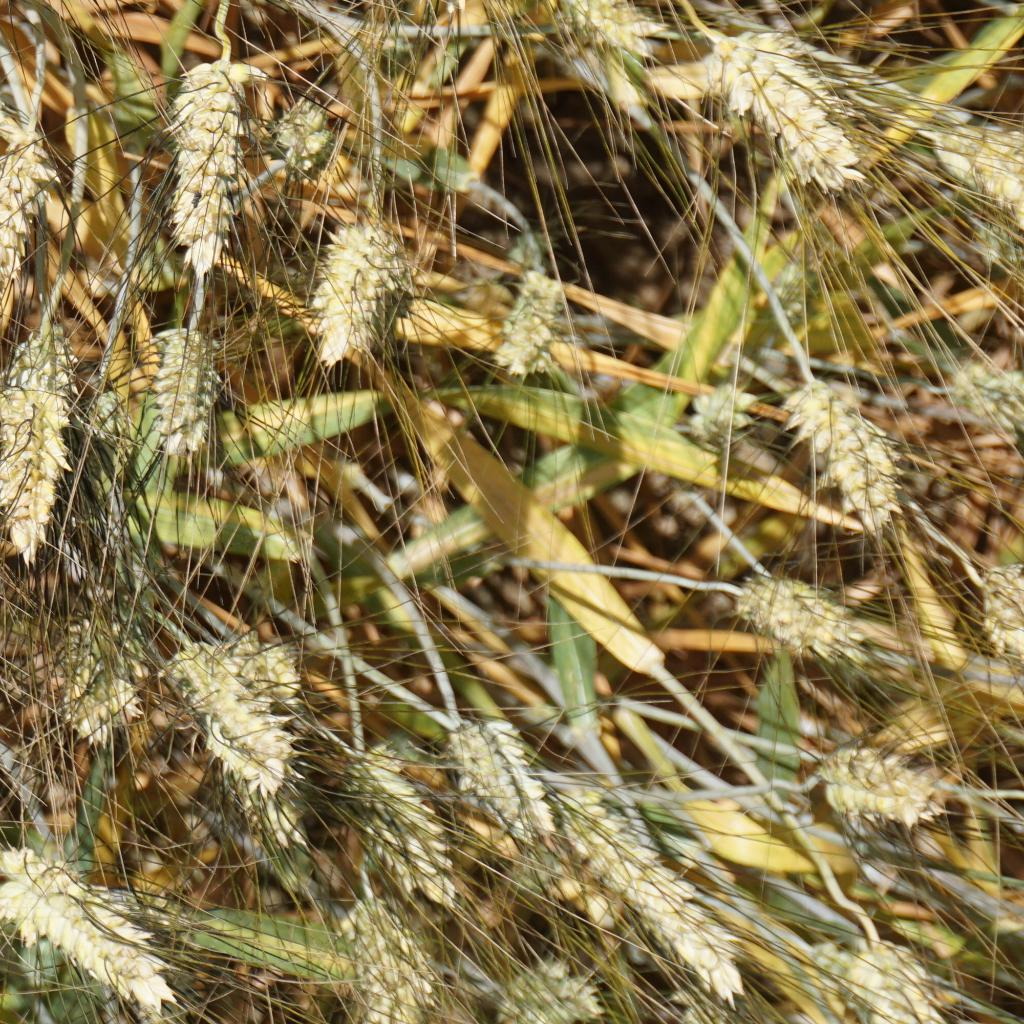0-0: (553, 798, 742, 992), (0, 839, 184, 1016), (145, 51, 268, 290), (696, 30, 868, 197), (314, 201, 424, 373), (787, 384, 915, 527), (320, 886, 441, 1024), (441, 716, 563, 843), (2, 320, 69, 546), (732, 568, 858, 687), (348, 734, 440, 890), (248, 751, 342, 901), (145, 312, 235, 461), (817, 736, 952, 835), (184, 647, 275, 787), (832, 918, 948, 1024), (49, 608, 141, 740), (0, 130, 63, 315), (495, 264, 580, 396), (922, 98, 1024, 185), (945, 352, 1020, 451), (552, 0, 651, 73), (51, 383, 146, 454), (230, 610, 294, 707), (501, 956, 592, 1024), (962, 546, 1024, 645), (280, 90, 335, 186), (696, 369, 749, 448), (13, 325, 64, 393), (0, 0, 11, 7)
